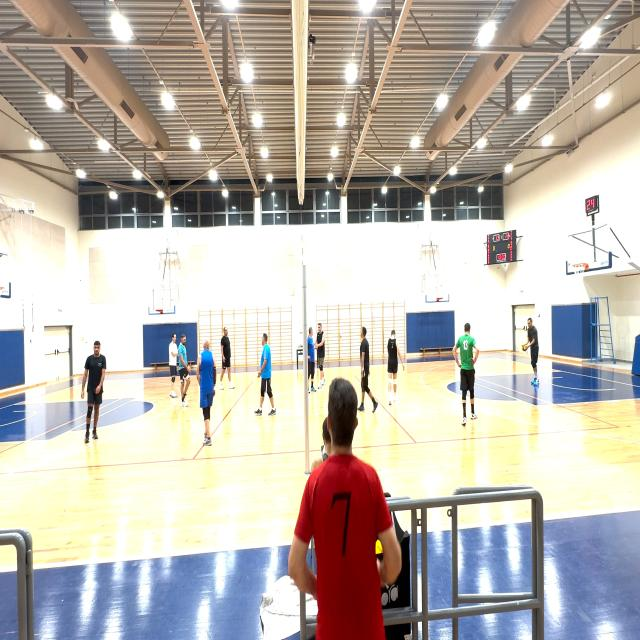volleyball: (521, 342, 527, 351)
